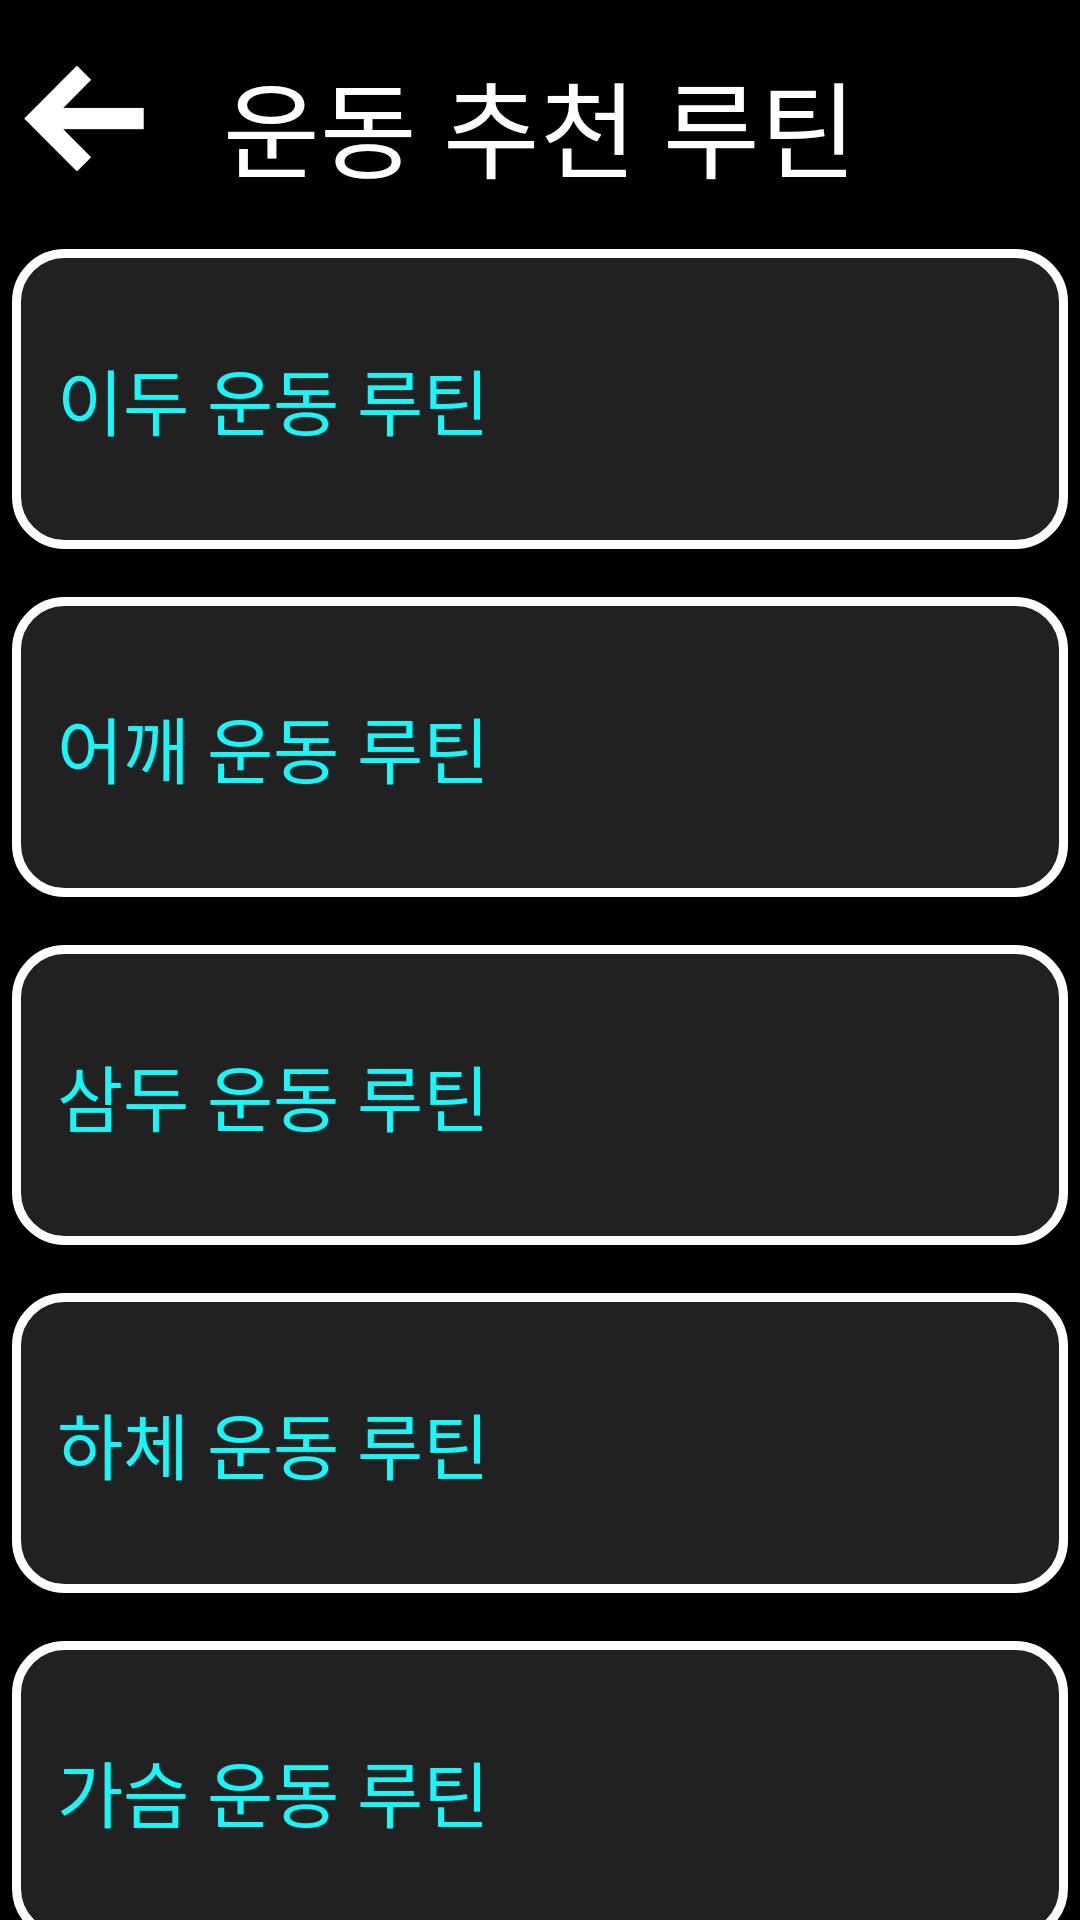

Locate icon controls on the screen. Image size 1080px×1920px, boxes as (x1, y1, x2, y2).
leftarrow: (24, 66, 144, 171)
